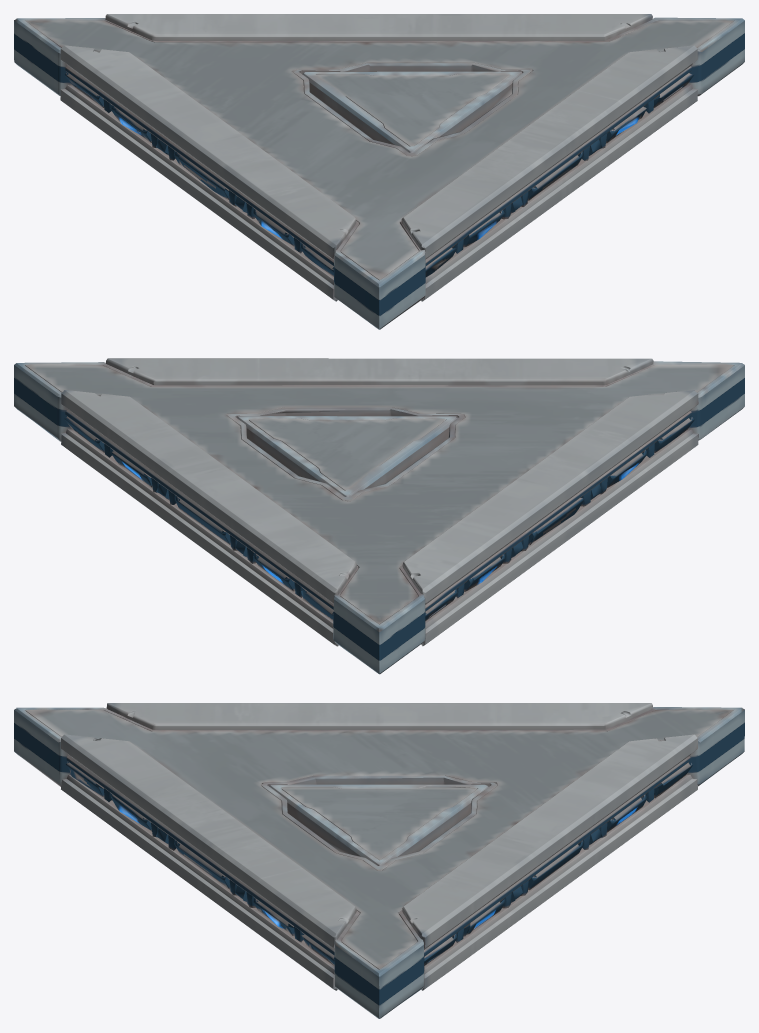
File: Tek Ceiling Triangle.glb
3 views of the same model, one above another, from view 1: azimuth 30°, elevation 25°; view 2: azimuth 150°, elevation 25°; view 3: azimuth 270°, elevation 25° (orthographic).
Visible parts, largest first — view 1: SM_Tek_CeilingTriangle; view 2: SM_Tek_CeilingTriangle; view 3: SM_Tek_CeilingTriangle.
Part boxes in pixels (<box>): SM_Tek_CeilingTriangle: <box>14,14,744,329</box>; SM_Tek_CeilingTriangle: <box>14,358,744,674</box>; SM_Tek_CeilingTriangle: <box>14,703,744,1018</box>.
Bounding box in the file's own units: 2.61 × 0.2702 × 3.01.
Materials: 1 (1 with a texture image).
